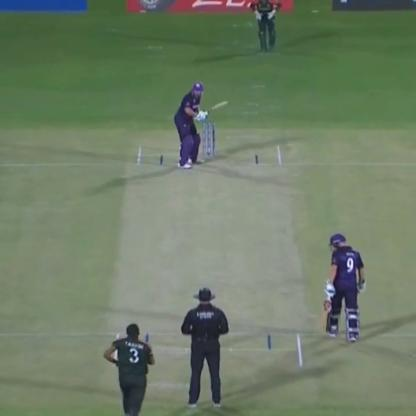bat: (318, 286, 335, 344), (204, 96, 240, 119)
pitch: (105, 144, 309, 375)
